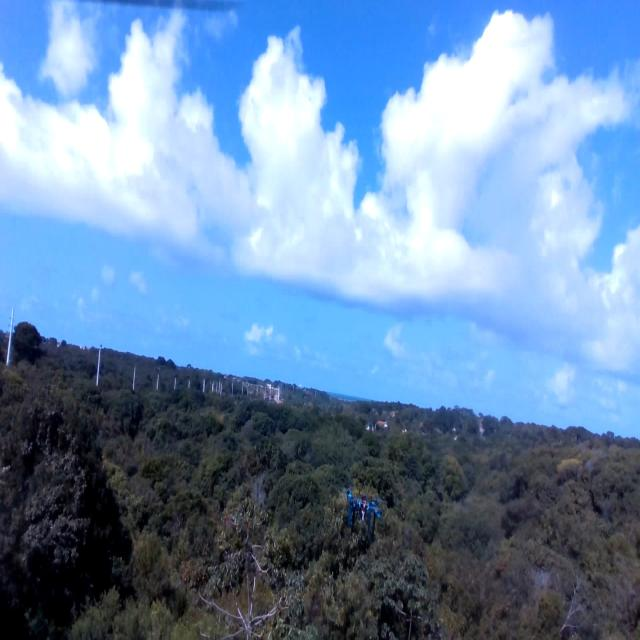-uav-: (339, 477, 384, 544)
